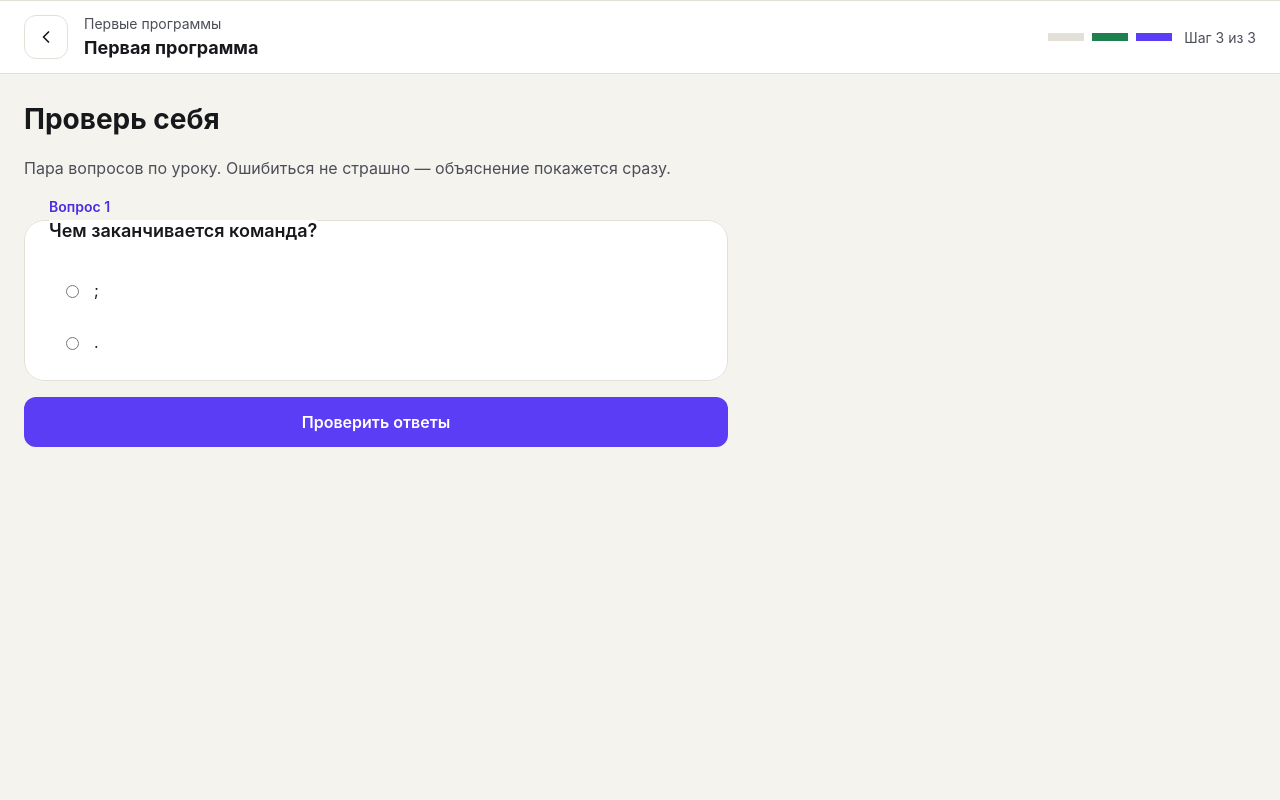
Test: LessonView › обычный урок, задачи решены: после вопросов — «урок пройден» и ссылка на карту
The image size is (1280, 800).
Click the radio button labelled ";" at (72, 292), box [66,285,79,298]
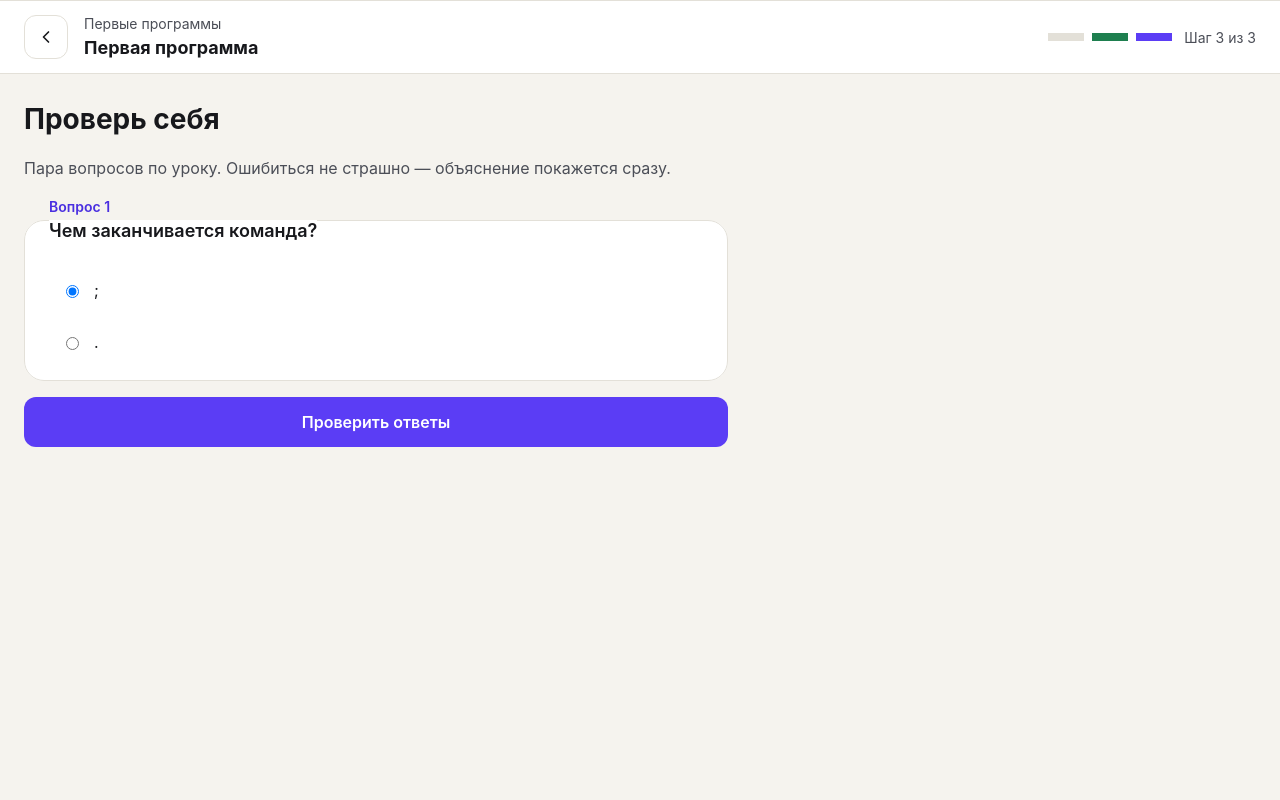
Click the button "Проверить ответы" at (376, 422), box [24,397,728,447]
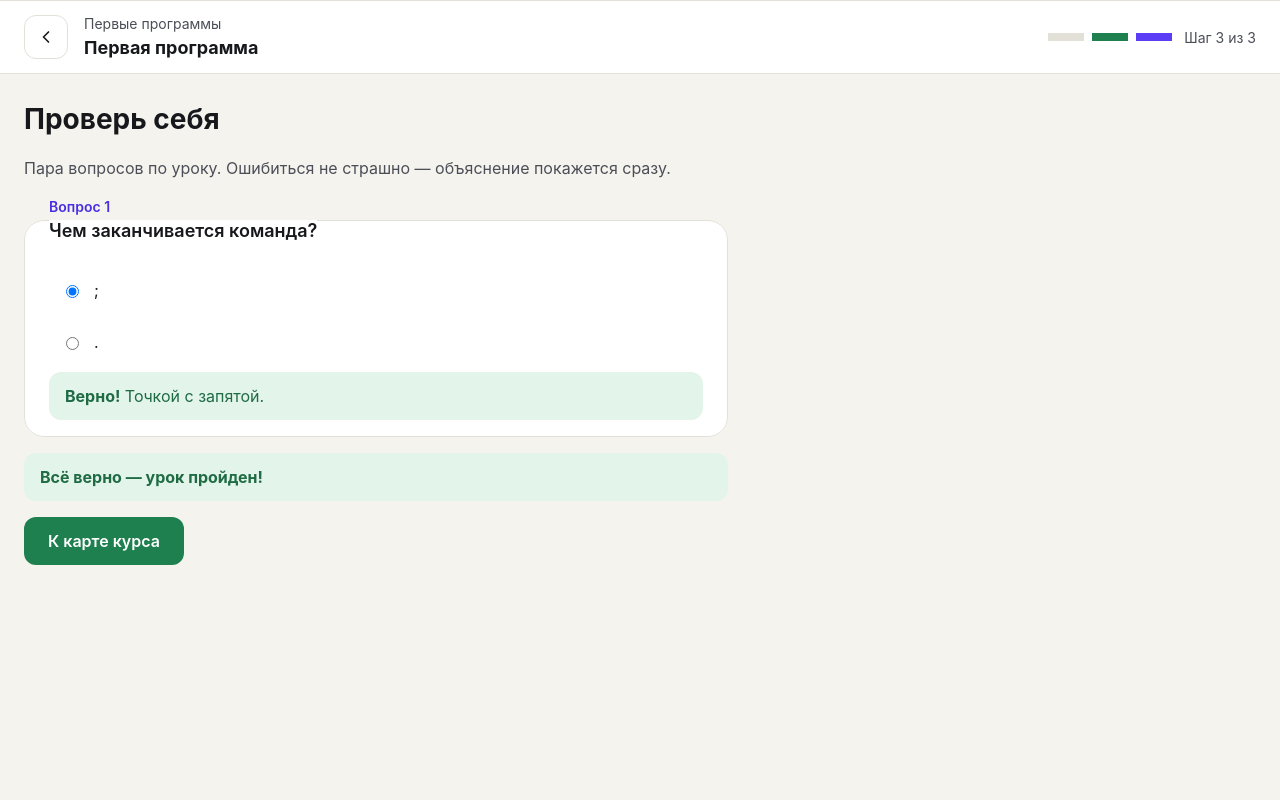
Result: the text "Всё верно — урок пройден!" is shown at [40,467,263,487]
